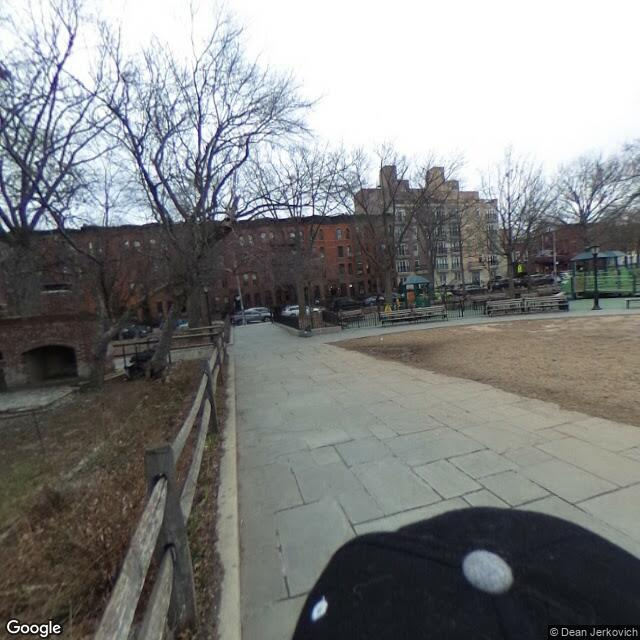litter: (378, 335, 385, 342)
